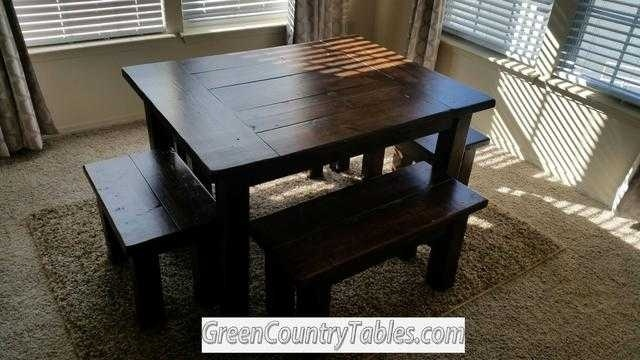obstacle: (122, 35, 494, 313)
